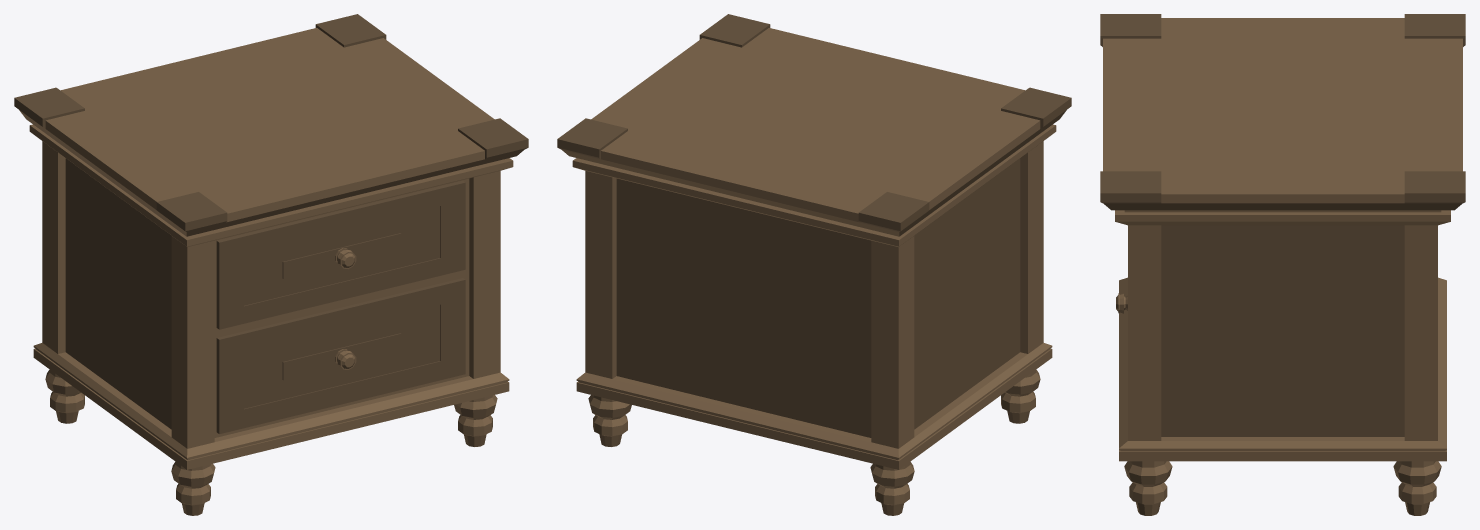
The model's file is 1711694268450NightStand.gltf.
3 renders of one model, left to right at view 1: azimuth 30°, elevation 25°; view 2: azimuth 150°, elevation 25°; view 3: azimuth 270°, elevation 25°, orthographic. The views are drawn at different scales.
Visible parts, largest first — view 1: Nightstand, BottomDrawer, TopDrawer; view 2: Nightstand; view 3: Nightstand.
Boxes of the visible parts, bbox=[...] form: Nightstand: bbox=[14, 14, 528, 515]; BottomDrawer: bbox=[216, 278, 465, 434]; TopDrawer: bbox=[216, 181, 465, 329]; Nightstand: bbox=[557, 14, 1071, 515]; Nightstand: bbox=[1100, 14, 1465, 515].
Bounding box in the file's own units: 0.5877 × 0.5117 × 0.5067.
